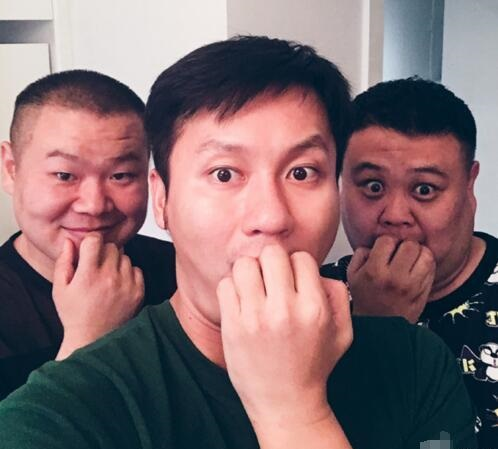face: (168, 88, 335, 308), (16, 111, 148, 261), (344, 124, 460, 285)
